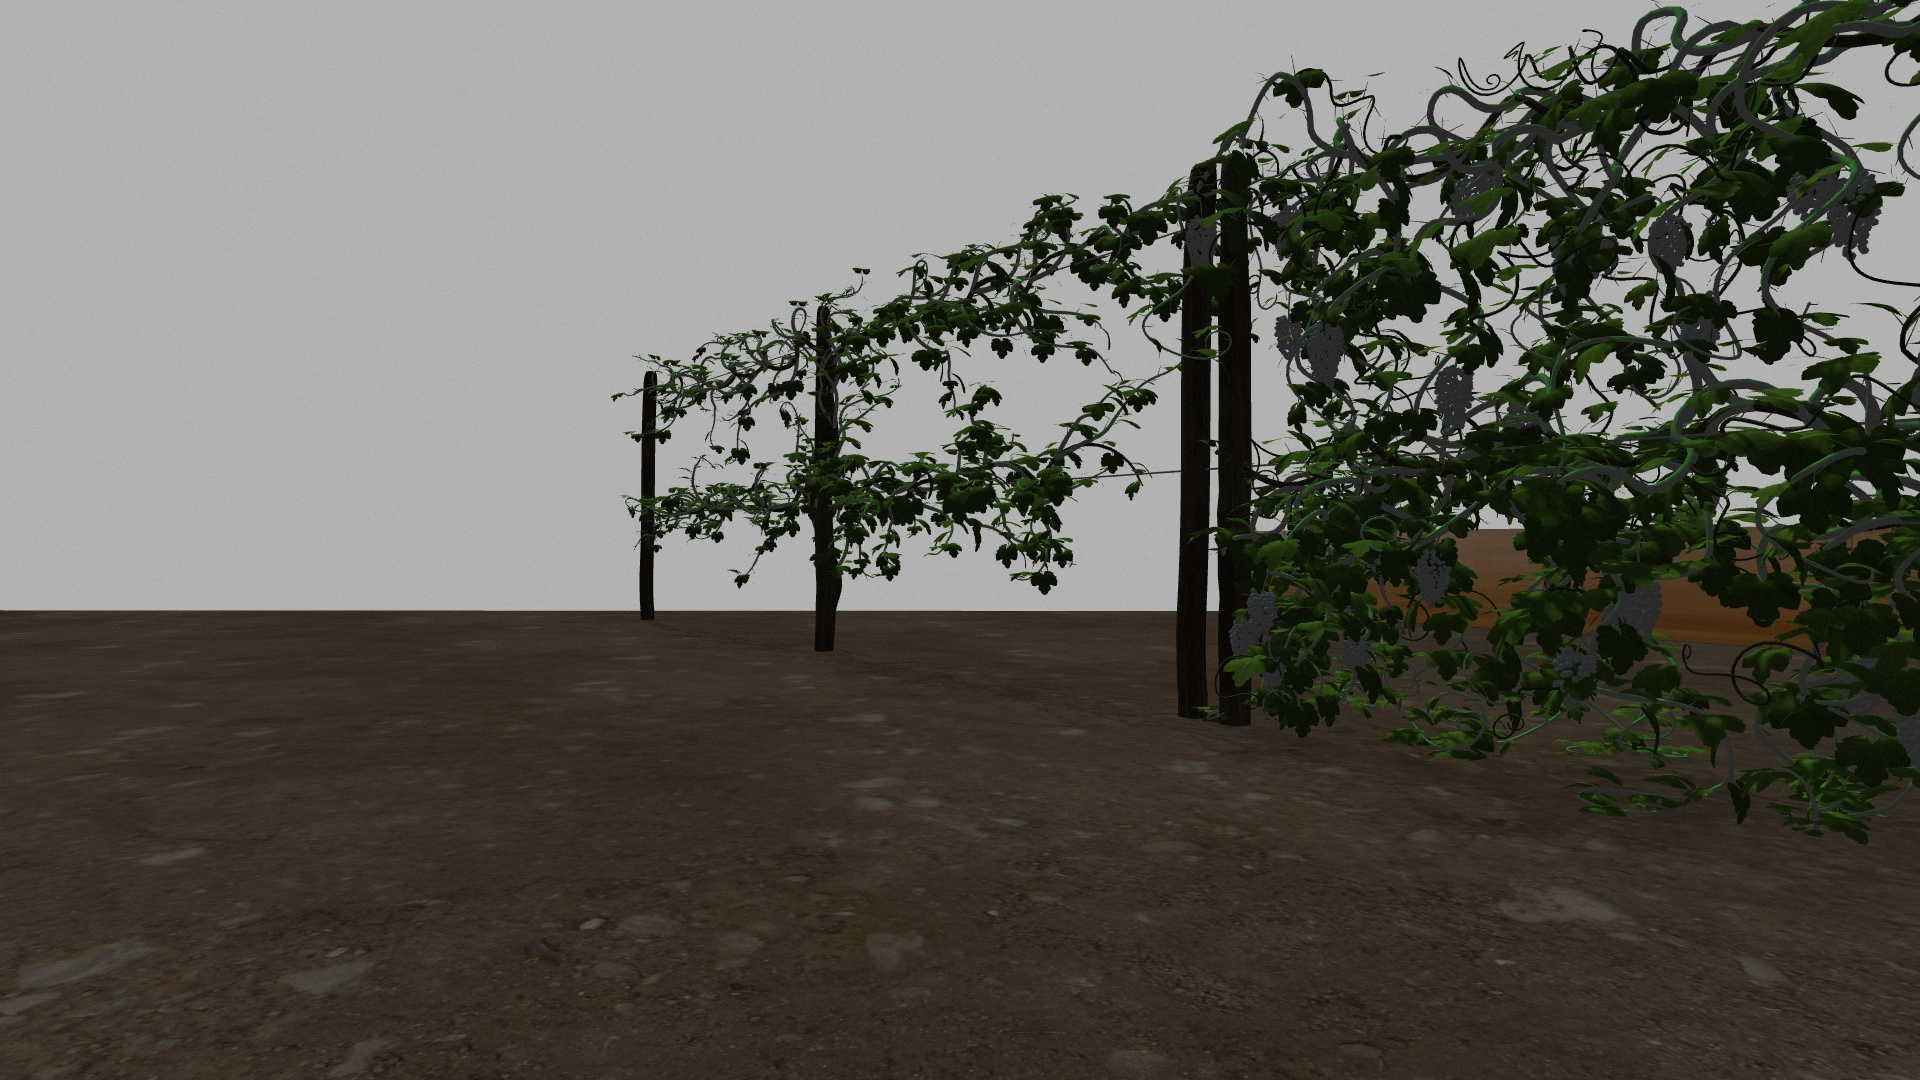grape: (1830, 171, 1880, 258), (1618, 578, 1665, 640), (1433, 363, 1474, 434), (1305, 322, 1345, 392), (1648, 212, 1689, 276), (1415, 547, 1452, 609), (1785, 174, 1829, 220), (1555, 642, 1600, 684), (1185, 218, 1217, 268), (1246, 589, 1280, 634), (1274, 313, 1304, 361), (1229, 621, 1261, 658), (1342, 636, 1371, 671)
